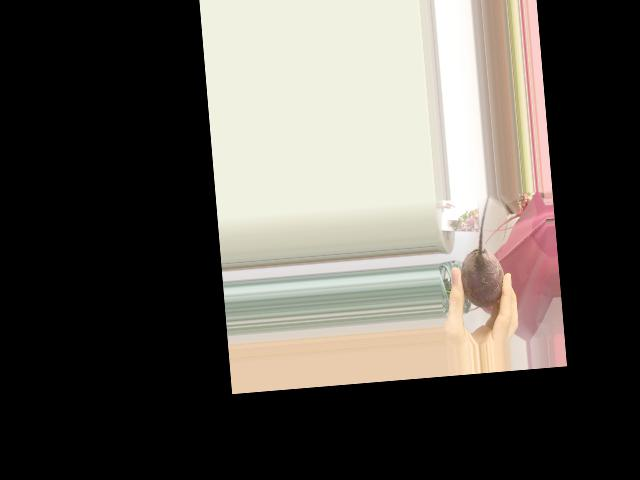beet: (454, 194, 506, 310)
